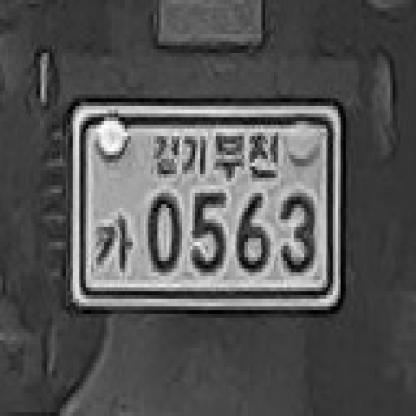bnum: (66, 98, 346, 314)
